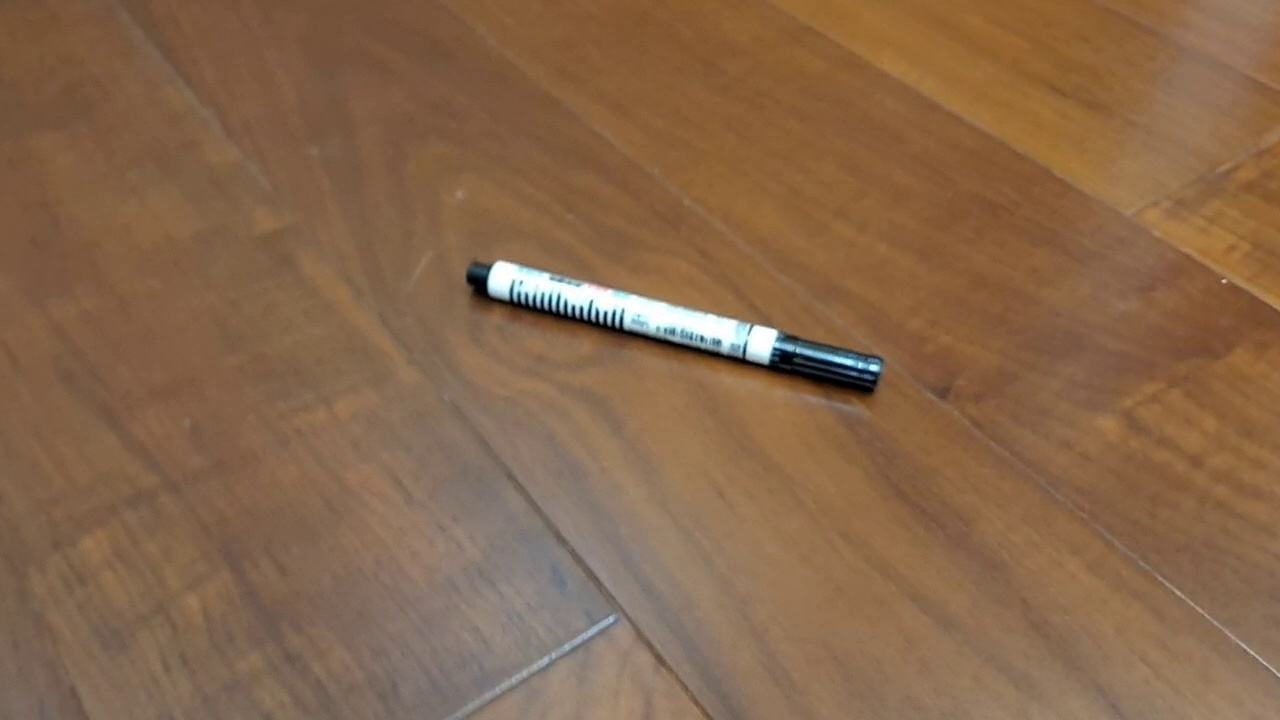pen: (465, 258, 884, 397)
